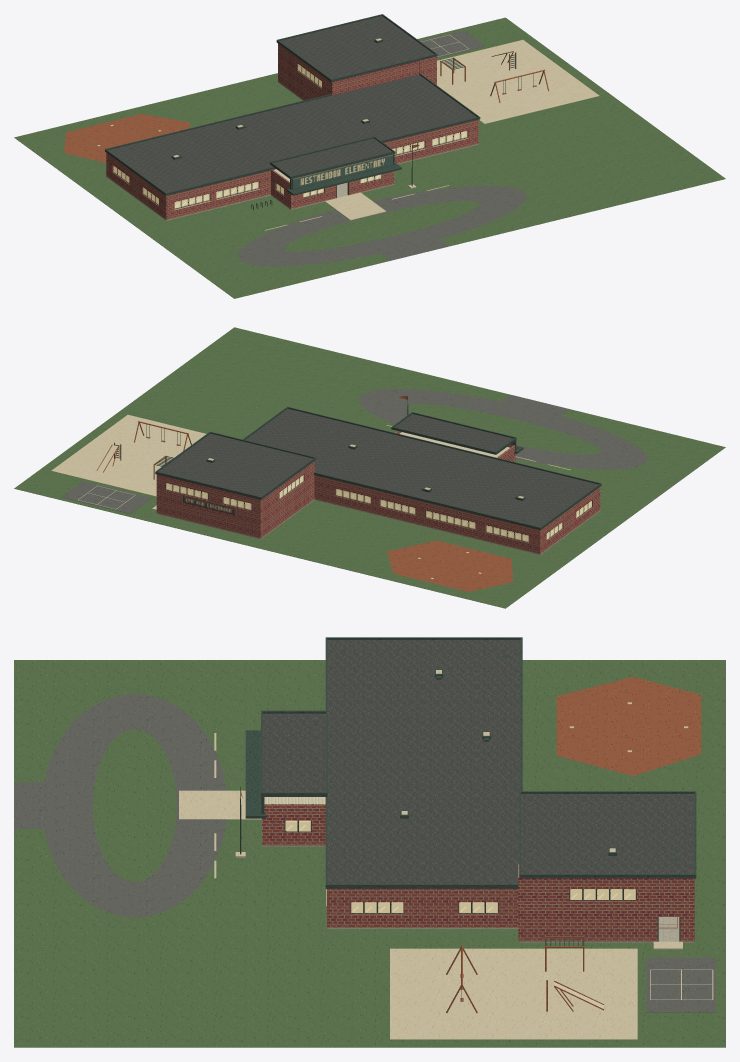
File: westmeadow-1955.glb
3 renders of one model, top to bottom at view 1: azimuth 30°, elevation 25°; view 2: azimuth 150°, elevation 25°; view 3: azimuth 270°, elevation 25°, orthographic. The views are drawn at different scales.
Visible parts, largest first — view 1: lot, building_shell, sign_name; view 2: lot, building_shell; view 3: lot, building_shell.
Part boxes in pixels (x1=…): lot: x1=14, y1=17, x2=725, y2=298; building_shell: x1=105, y1=14, x2=480, y2=220; sign_name: x1=292, y1=154, x2=393, y2=189; lot: x1=14, y1=327, x2=725, y2=608; building_shell: x1=152, y1=406, x2=601, y2=554; lot: x1=14, y1=660, x2=725, y2=1047; building_shell: x1=245, y1=637, x2=696, y2=949.
Size of what is drawn, in the model's own units: 85 by 7.16 by 66.
11 materials, 11 textured.
